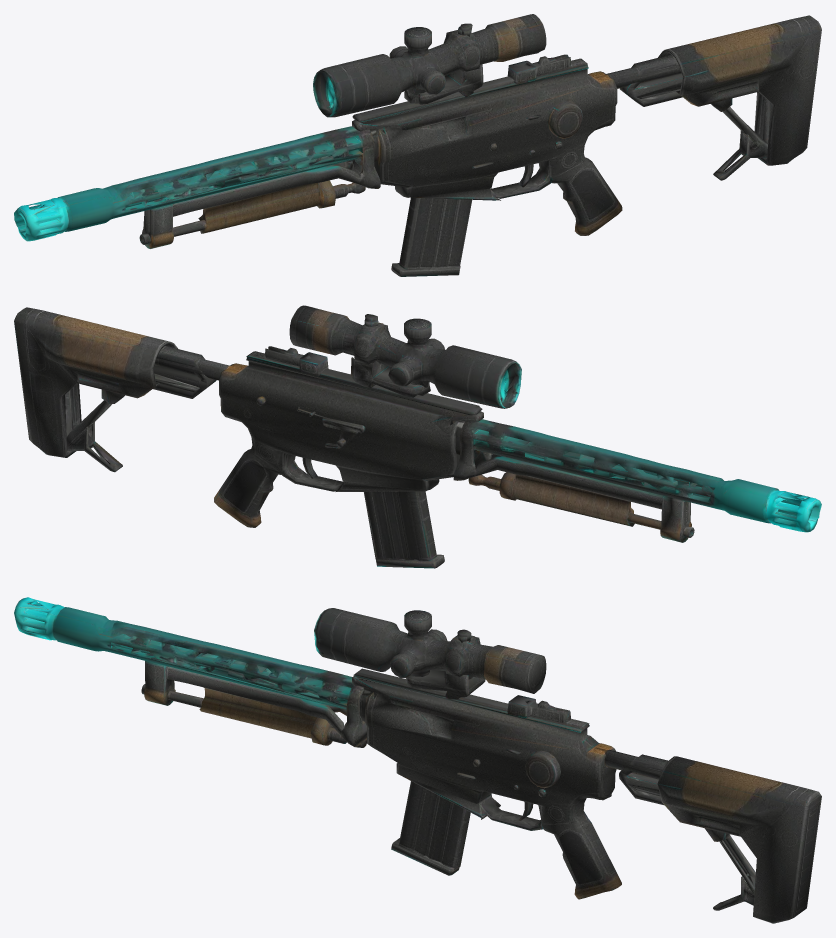
The model's file is w_sniper.glb.
3 views of the same model, one above another, from view 1: azimuth 30°, elevation 25°; view 2: azimuth 150°, elevation 25°; view 3: azimuth 330°, elevation 25° (orthographic).
Bounding box in the file's own units: 0.9575 × 0.2851 × 0.0816.
1 material, 1 textured.
